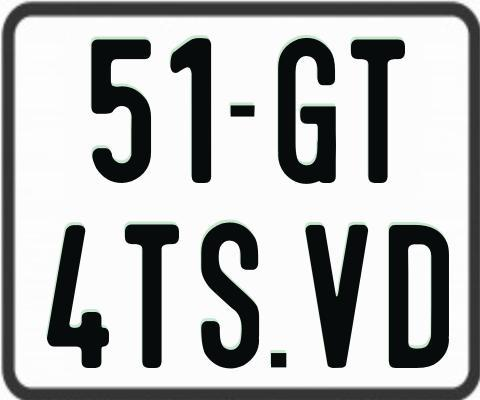1: (167, 35, 210, 185)
4: (44, 224, 111, 373)
5: (89, 36, 153, 182)
D: (386, 223, 452, 367)
G: (275, 38, 333, 186)
S: (201, 222, 261, 369)
T: (350, 37, 409, 184), (123, 224, 180, 372)
V: (302, 222, 367, 366)
